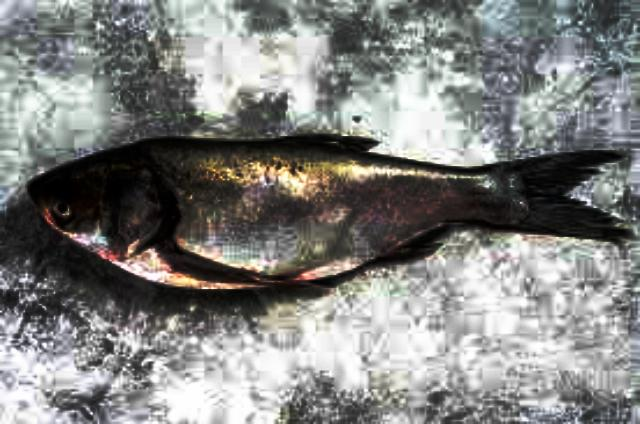Healthy Fish: (28, 134, 624, 290)
